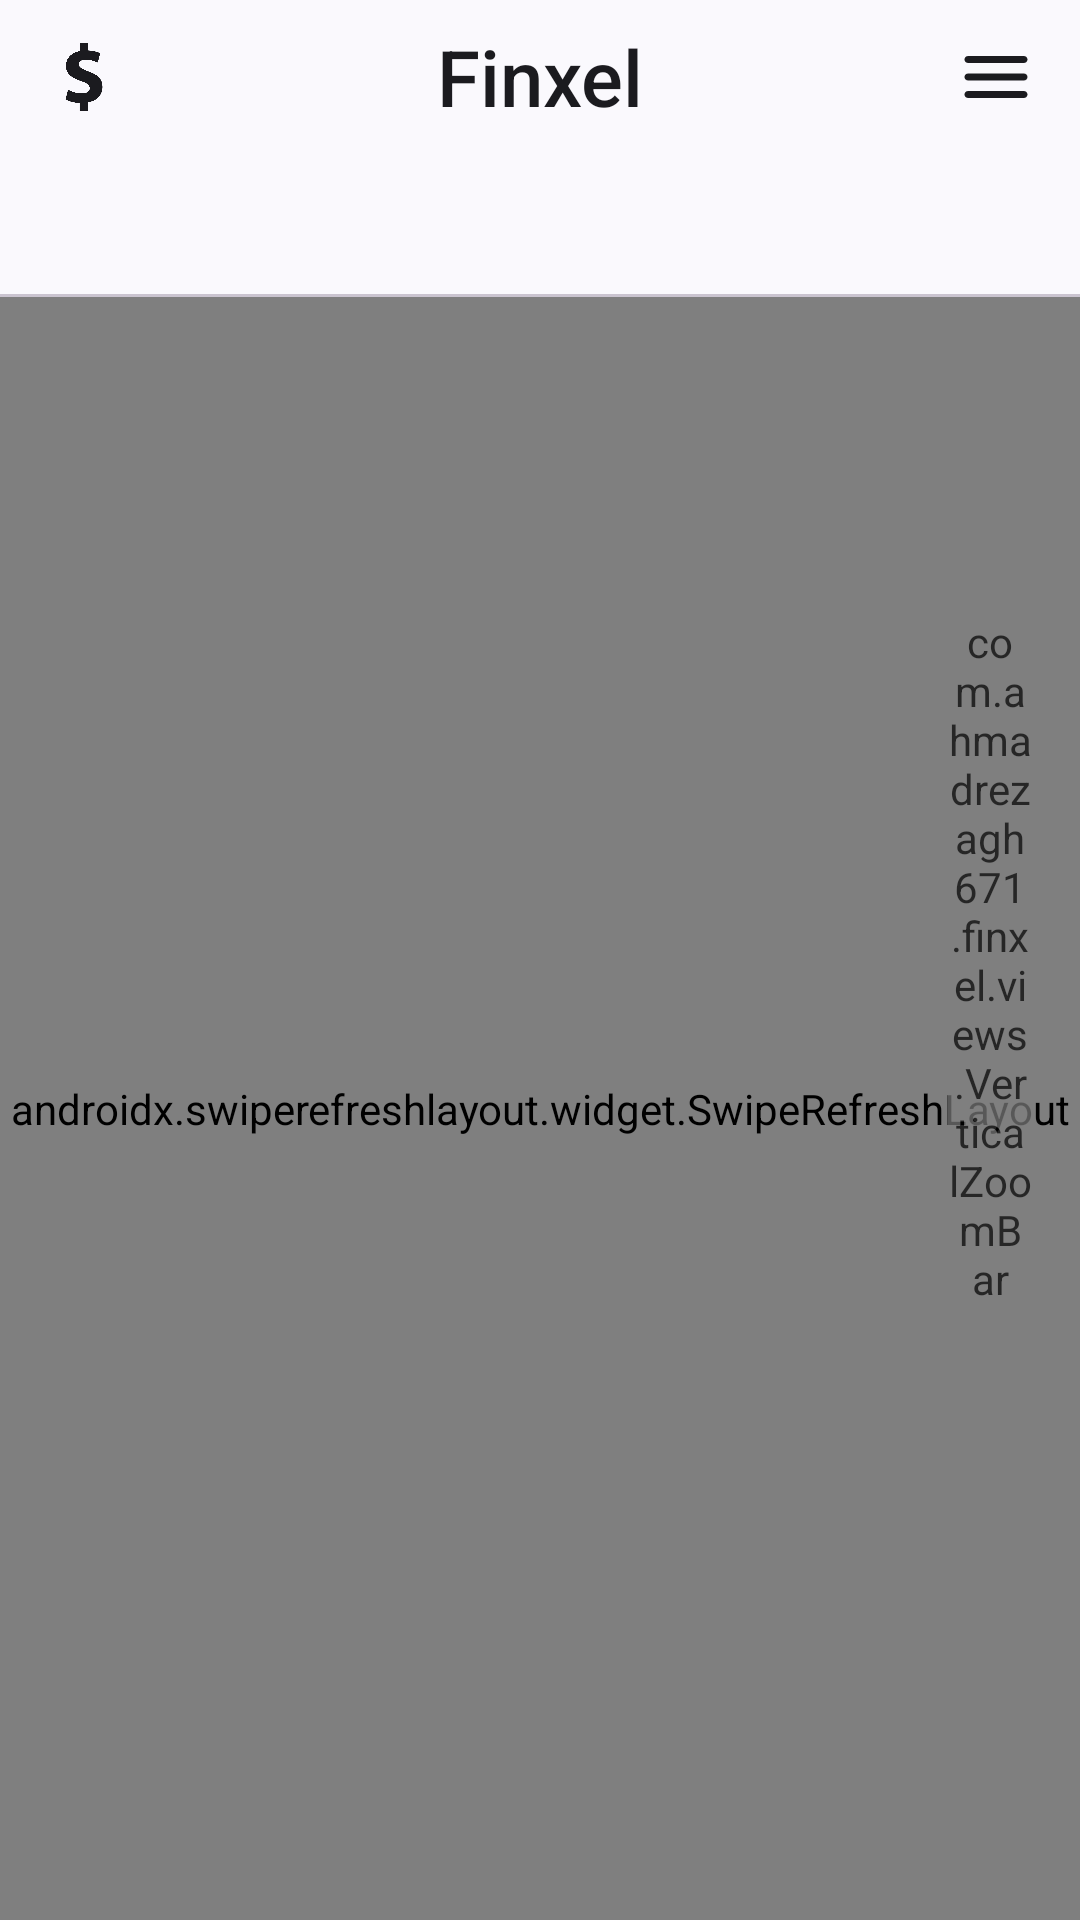

Icons on this 1080px×1920px Android screen, each with its box as (x1, y1, x2, y2):
menu: (964, 56, 1028, 98)
